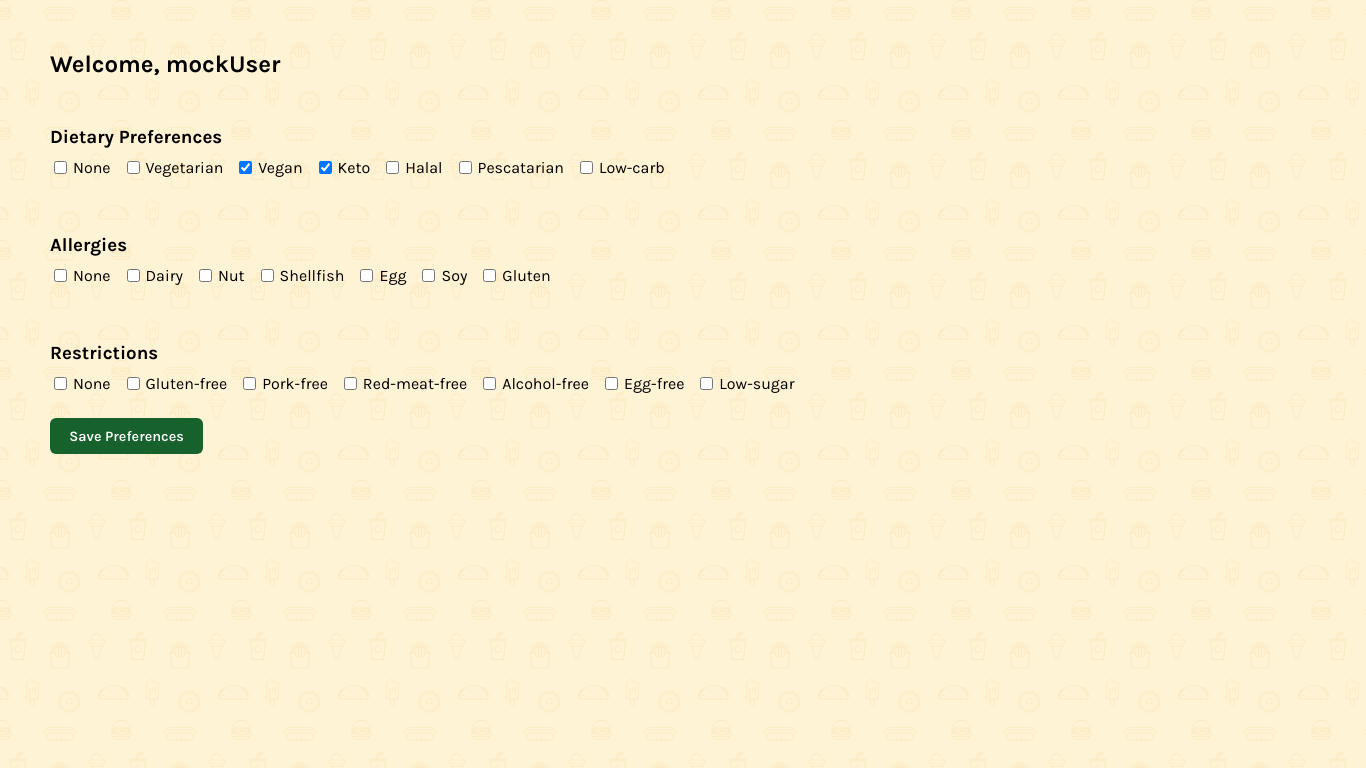
it: MainPage › selecting "None" unchecks all other dietary pref options
The image size is (1366, 768).
Expected: the heading "Welcome, mockUser" is shown, [50,50,280,78]
Expected: the checkbox labelled "Vegan" is checked, [239,161,252,174]
Click the checkbox labelled "None" in the row of "Vegetarian": (60, 167) [54,161,67,174]
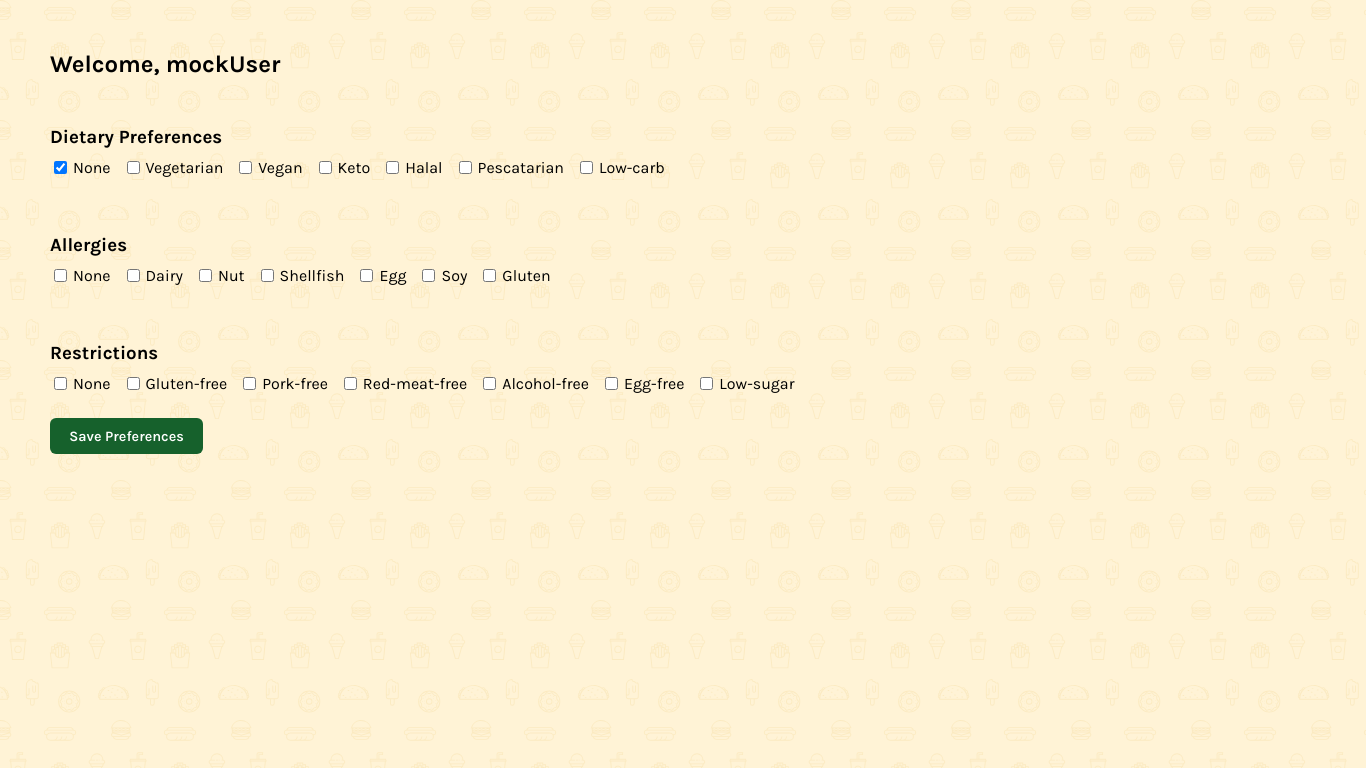
Expected: the checkbox labelled "None" in the row of "Vegetarian" is checked, [54,161,67,174]
Expected: the checkbox labelled "Vegan" is not checked, [239,161,252,174]
Expected: the checkbox labelled "Keto" is not checked, [319,161,332,174]
